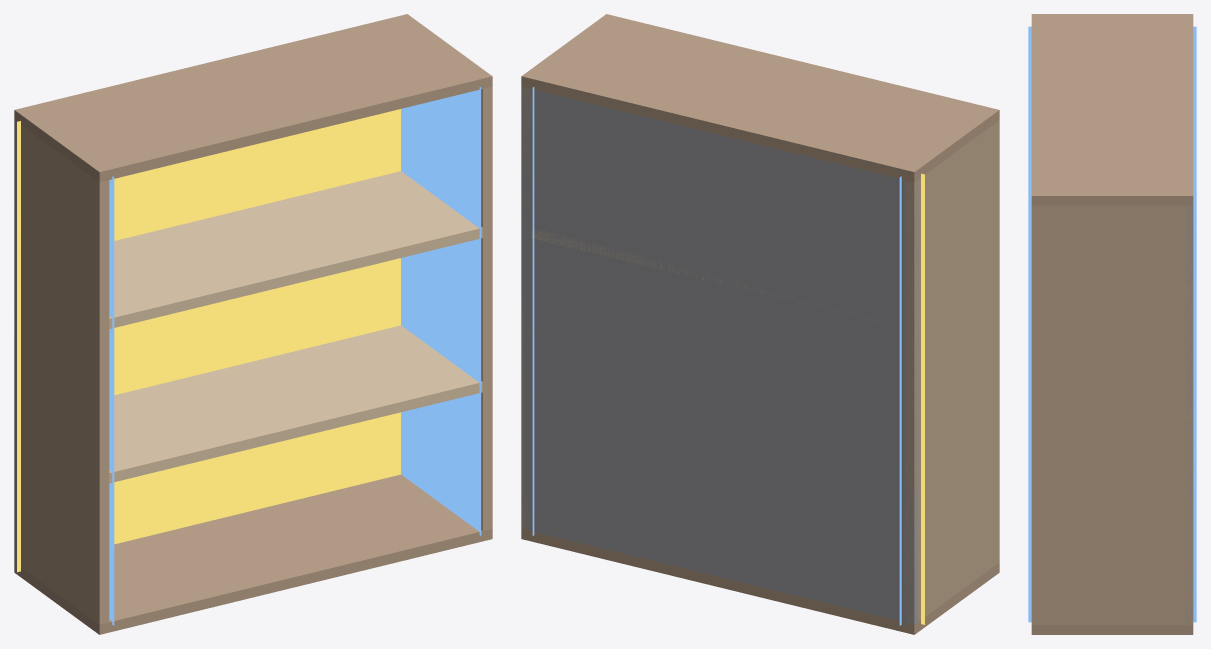
Rendered from shelving_unit.glb.
3 views of the same model, side by side, from view 1: azimuth 30°, elevation 25°; view 2: azimuth 150°, elevation 25°; view 3: azimuth 270°, elevation 25° (orthographic). The views are drawn at different scales.
Parts seen in each view (by area): view 1: spatail_region__back__back_inner, side_left, top, bottom, shelf_2, shelf_1, spatail_region__side_right__side_right_inner, side_right, spatail_region__side_left__side_left_inner, back; view 2: back, side_left, top, bottom, spatail_region__back__back_inner, side_right, spatail_region__side_left__side_left_inner, spatail_region__side_right__side_right_inner, shelf_2; view 3: side_right, top, spatail_region__side_right__side_right_inner, bottom, back, spatail_region__side_left__side_left_inner.
Part boxes in pixels (left/top/right/bottom): spatail_region__back__back_inner: left=17, top=109, right=400, bottom=572; side_left: left=14, top=121, right=109, bottom=624; top: left=14, top=14, right=492, bottom=182; bottom: left=14, top=474, right=492, bottom=634; shelf_2: left=109, top=171, right=482, bottom=328; shelf_1: left=109, top=325, right=482, bottom=483; spatail_region__side_right__side_right_inner: left=401, top=87, right=481, bottom=535; side_right: left=481, top=86, right=492, bottom=530; spatail_region__side_left__side_left_inner: left=109, top=176, right=114, bottom=625; back: left=14, top=120, right=16, bottom=563; back: left=521, top=87, right=918, bottom=624; side_left: left=904, top=120, right=999, bottom=624; top: left=521, top=14, right=999, bottom=182; bottom: left=521, top=529, right=999, bottom=634; spatail_region__back__back_inner: left=921, top=173, right=924, bottom=624; side_right: left=521, top=87, right=531, bottom=530; spatail_region__side_left__side_left_inner: left=899, top=176, right=901, bottom=625; spatail_region__side_right__side_right_inner: left=532, top=87, right=534, bottom=535; shelf_2: left=531, top=228, right=901, bottom=327; side_right: left=1031, top=205, right=1193, bottom=625; top: left=1031, top=14, right=1193, bottom=205; spatail_region__side_right__side_right_inner: left=1028, top=196, right=1196, bottom=622; bottom: left=1031, top=625, right=1193, bottom=634; back: left=1185, top=205, right=1193, bottom=625; spatail_region__side_left__side_left_inner: left=1028, top=26, right=1196, bottom=196.
Bounding box in the file's own units: 0.8163 × 0.9 × 0.3126.
